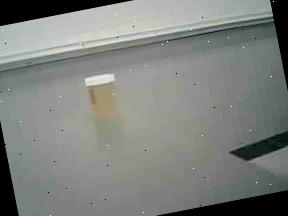Bottle B: (74, 64, 134, 128)
